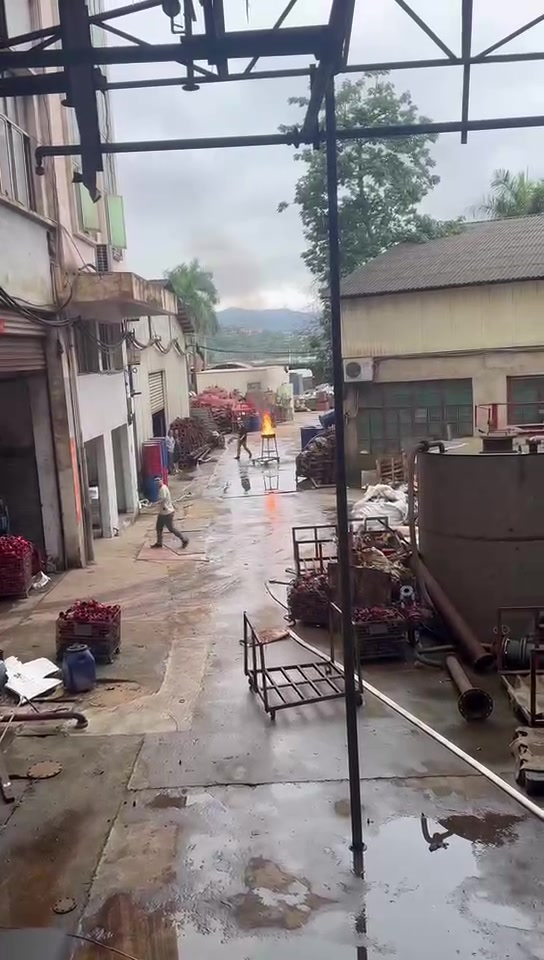fire: (260, 413, 274, 434)
